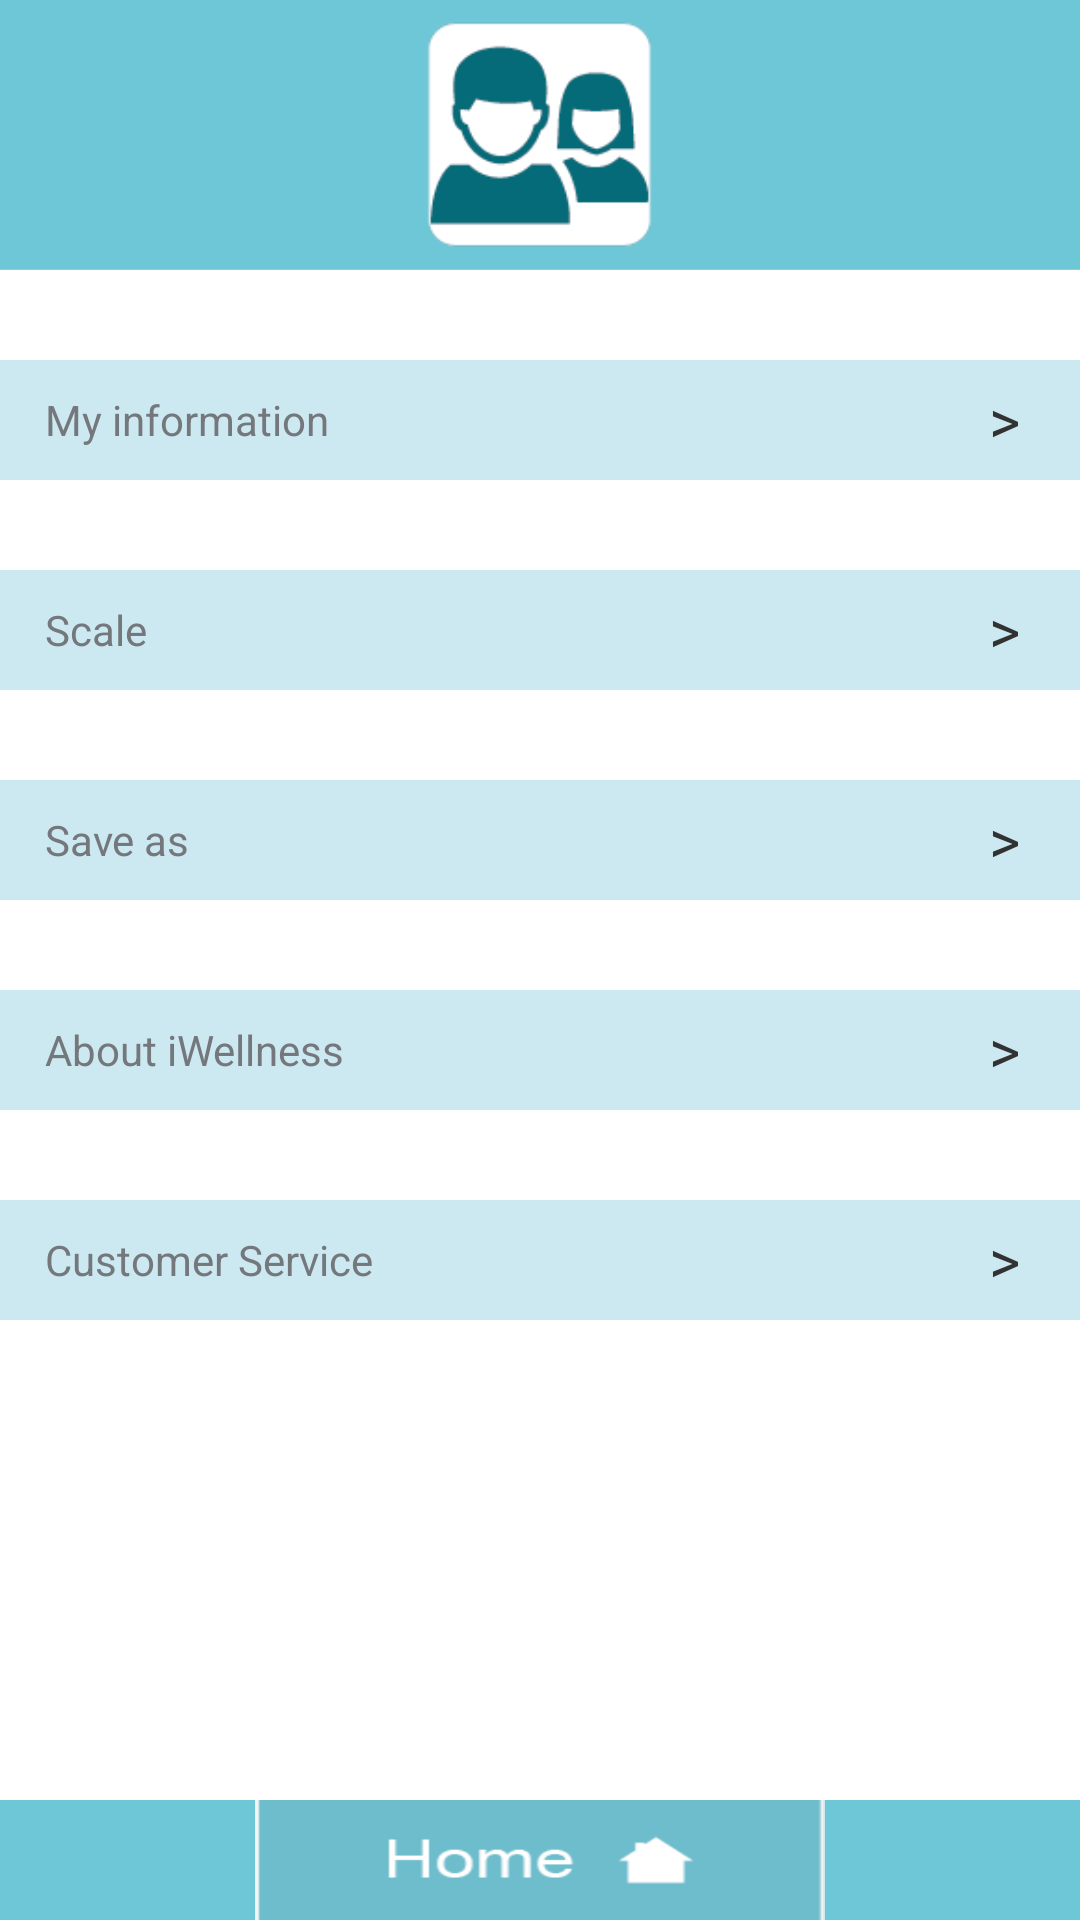

Point at icon controls on the screen. Image size 1080 x 1920, points as point (x, y).
user pic: point (539, 134)
